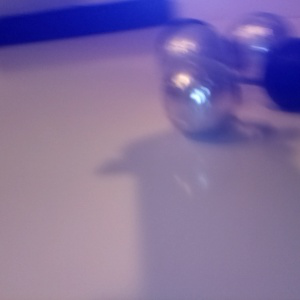alive_ball: (161, 56, 239, 136), (224, 11, 292, 82), (160, 24, 225, 88)
dead_ball: (155, 18, 219, 82), (262, 38, 300, 112)
